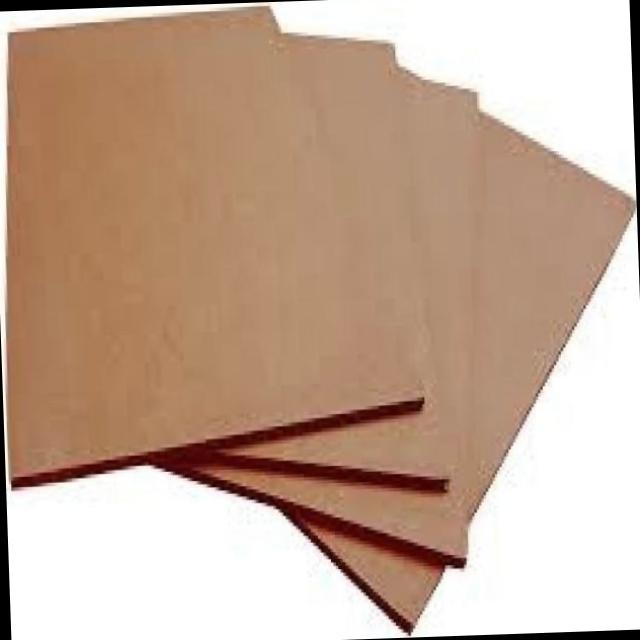cardboard paper: (7, 8, 632, 627), (6, 467, 407, 640)
